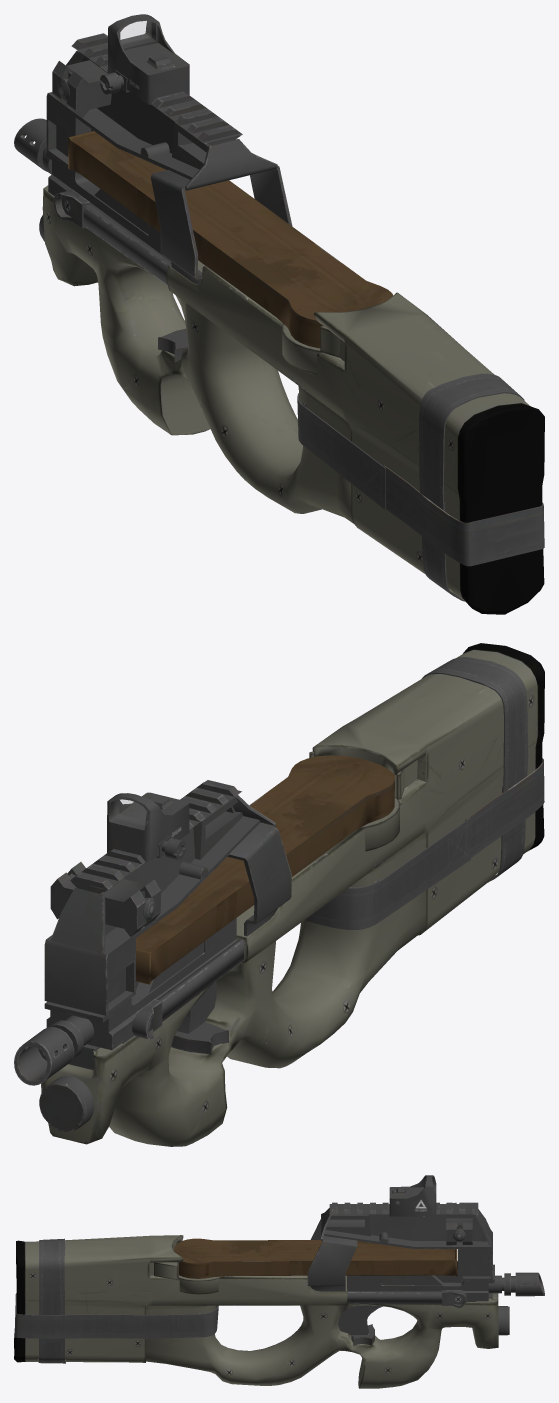
3 renders of one model, top to bottom at view 1: azimuth 30°, elevation 25°; view 2: azimuth 150°, elevation 25°; view 3: azimuth 270°, elevation 25°, orthographic. The views are drawn at different scales.
Visible parts, largest first — view 1: Stock_low_Material_0; view 2: Stock_low_Material_0; view 3: Stock_low_Material_0.
Boxes of the visible parts, box(x1,y1,x2,y2) form: Stock_low_Material_0: box(14, 14, 544, 614); Stock_low_Material_0: box(14, 643, 544, 1146); Stock_low_Material_0: box(14, 1175, 544, 1388).
Size of the model in its own units: 0.0667 by 0.2265 by 0.53.
Materials: 1 (1 with a texture image).
